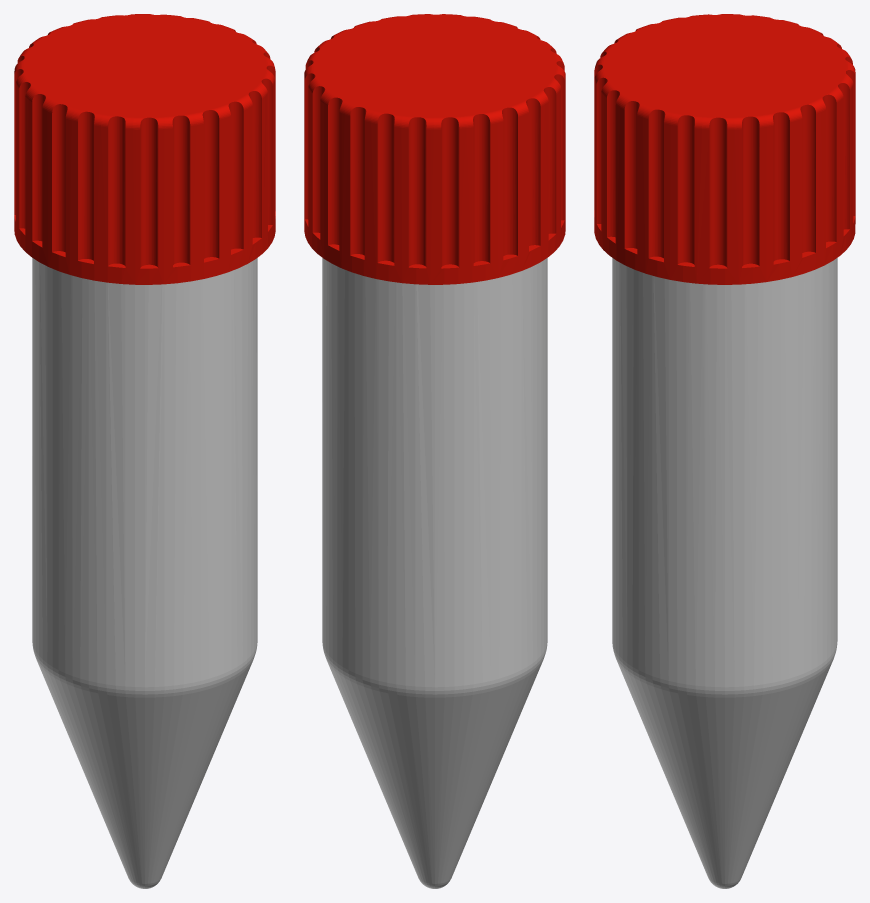
3 views of the same model, side by side, from view 1: azimuth 30°, elevation 25°; view 2: azimuth 150°, elevation 25°; view 3: azimuth 270°, elevation 25° (orthographic).
Visible parts, largest first — view 1: centrifuge_1-5ml_screw_body, centrifuge_1-5ml_screw_cap; view 2: centrifuge_1-5ml_screw_body, centrifuge_1-5ml_screw_cap; view 3: centrifuge_1-5ml_screw_body, centrifuge_1-5ml_screw_cap.
Part boxes in pixels (left/top/right/bottom): centrifuge_1-5ml_screw_body: left=32, top=258, right=257, bottom=888; centrifuge_1-5ml_screw_cap: left=14, top=14, right=275, bottom=284; centrifuge_1-5ml_screw_body: left=322, top=258, right=547, bottom=888; centrifuge_1-5ml_screw_cap: left=304, top=14, right=565, bottom=284; centrifuge_1-5ml_screw_body: left=612, top=258, right=837, bottom=888; centrifuge_1-5ml_screw_cap: left=594, top=14, right=855, bottom=284.
Bounding box in the file's own units: 0.0124 × 0.043 × 0.0124.
